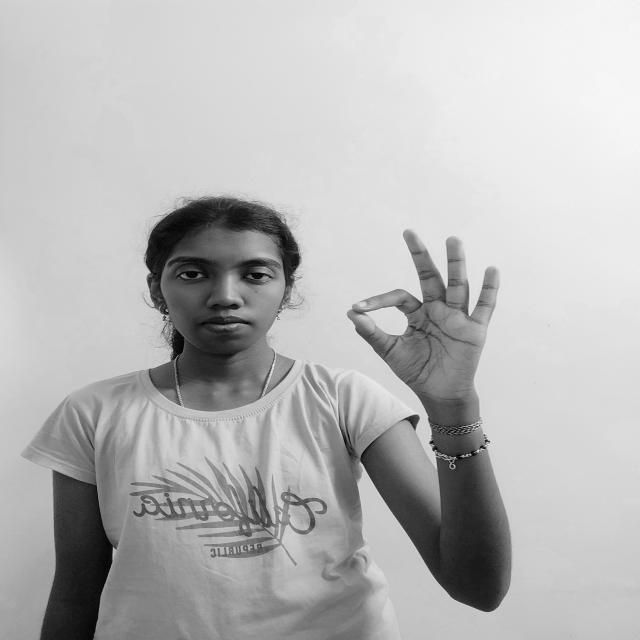Superb: (337, 225, 506, 420)
